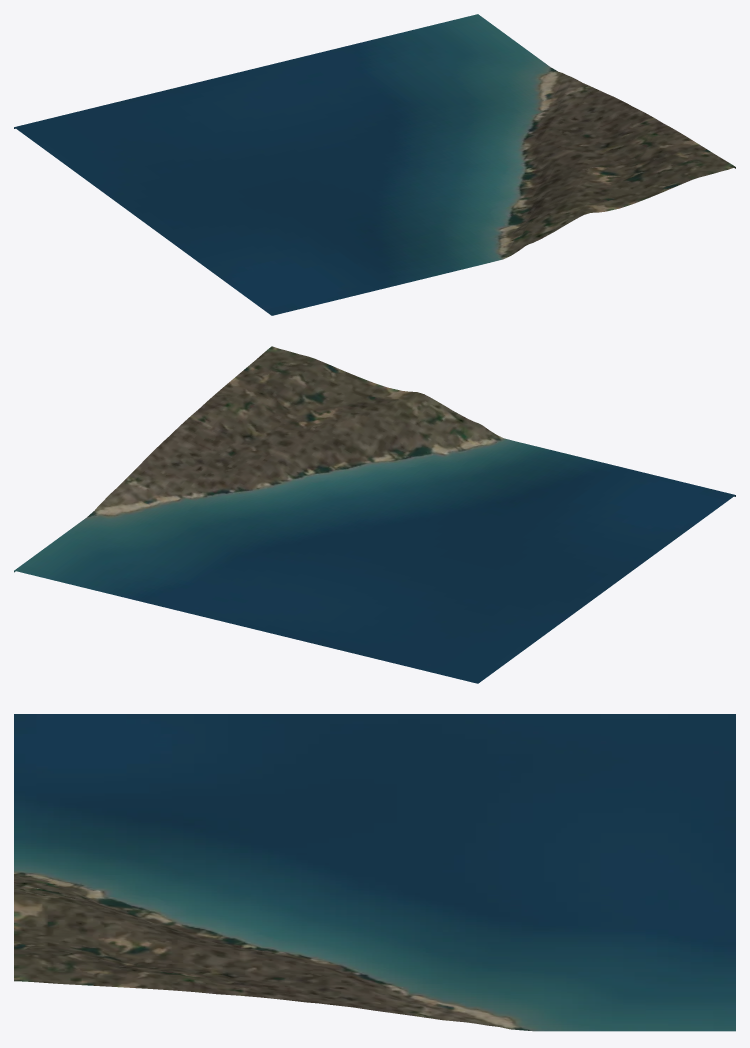
3 renders of one model, top to bottom at view 1: azimuth 30°, elevation 25°; view 2: azimuth 150°, elevation 25°; view 3: azimuth 270°, elevation 25°, orthographic. The views are drawn at different scales.
Bounding box in the file's own units: 250 × 19.41 × 241.
1 material, 1 textured.
